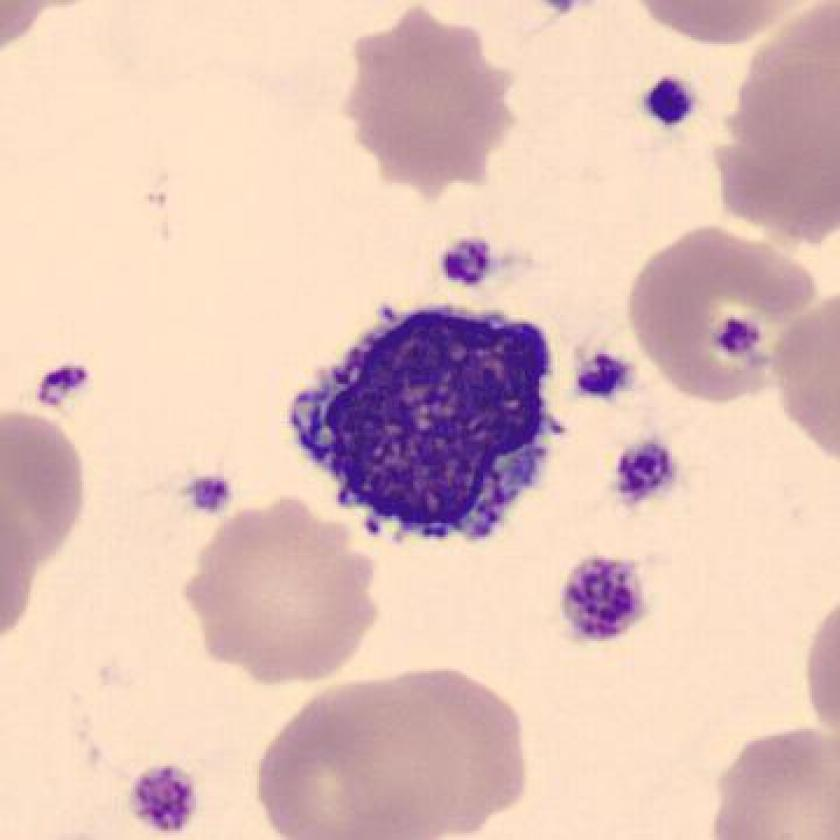lymphocyte: (286, 281, 577, 559)
